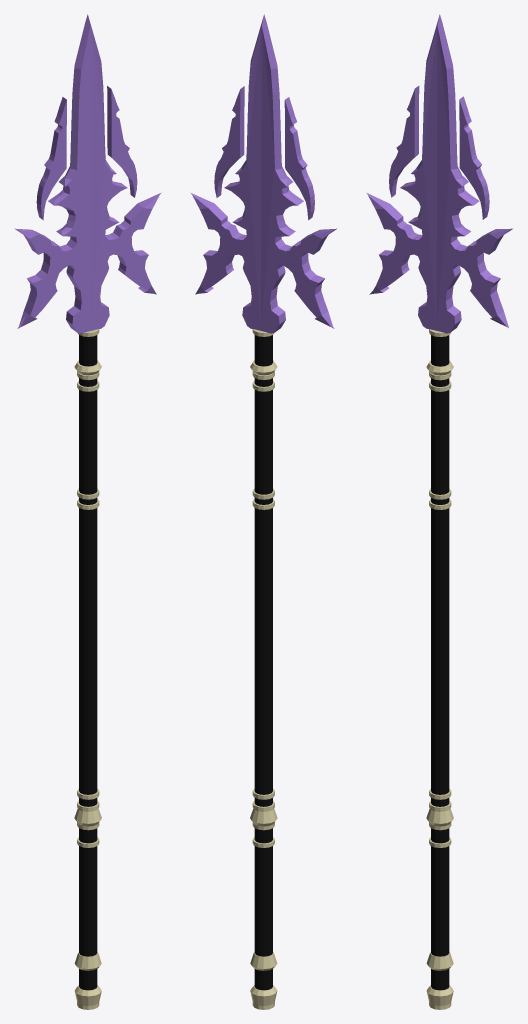
Rendered from spear0.0.1.obj.
3 views of the same model, side by side, from view 1: azimuth 30°, elevation 25°; view 2: azimuth 150°, elevation 25°; view 3: azimuth 330°, elevation 25° (orthographic).
Visible parts, largest first — view 1: Cylinder; view 2: Cylinder; view 3: Cylinder.
Boxes of the visible parts, x1,y1,x2,y2 form: Cylinder: (15, 14, 161, 1009); Cylinder: (190, 14, 336, 1009); Cylinder: (366, 14, 512, 1009).
Size of the model in its own units: 0.1314 by 0.8435 by 0.0214.
